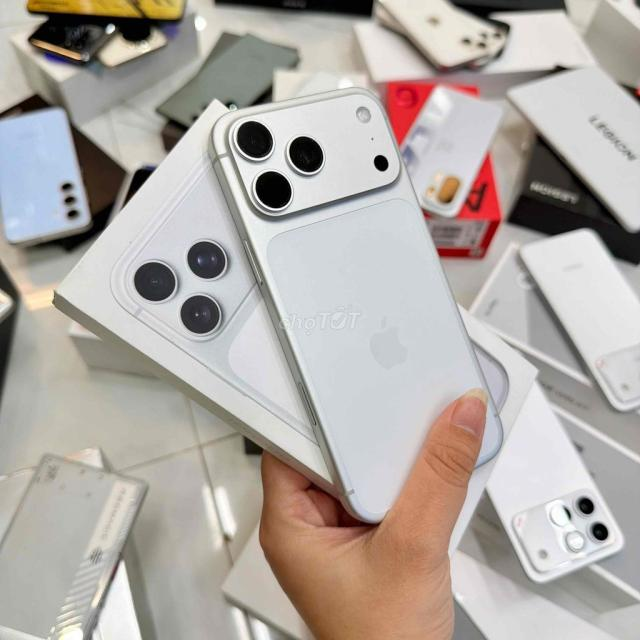scratch: (216, 83, 508, 533)
